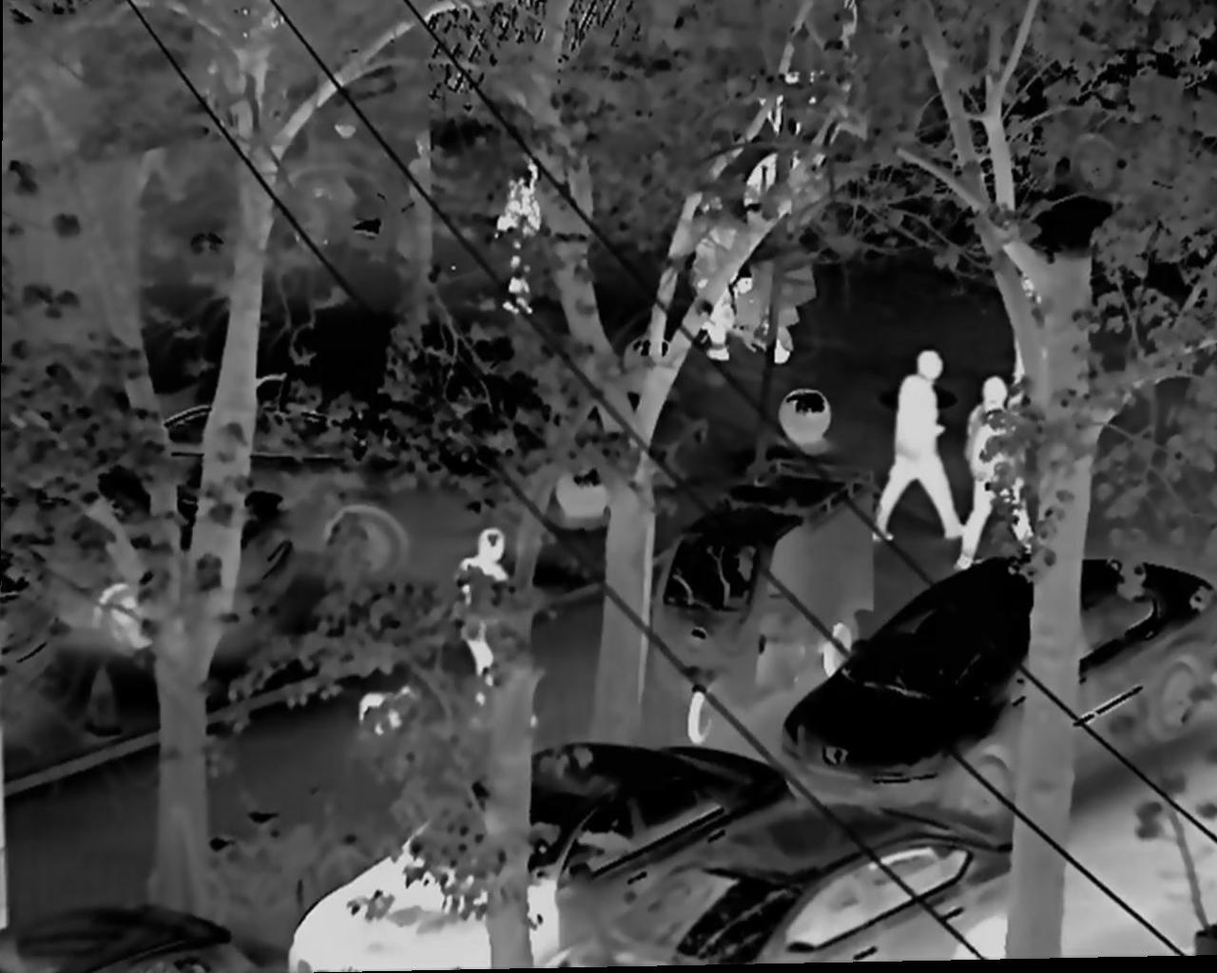person: (876, 340, 972, 553), (944, 358, 1035, 564), (442, 527, 529, 718), (694, 156, 766, 364), (491, 143, 547, 330)
